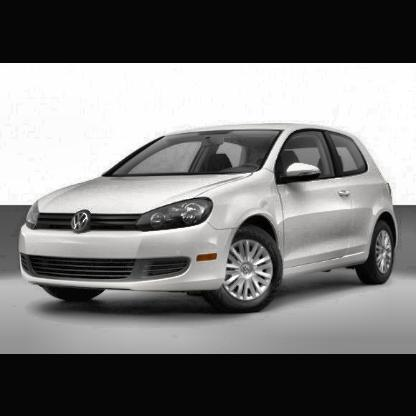Volkswagen Golf Hatchback 2012: (17, 120, 401, 318)
